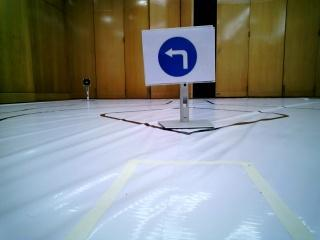left: (143, 34, 218, 81)
